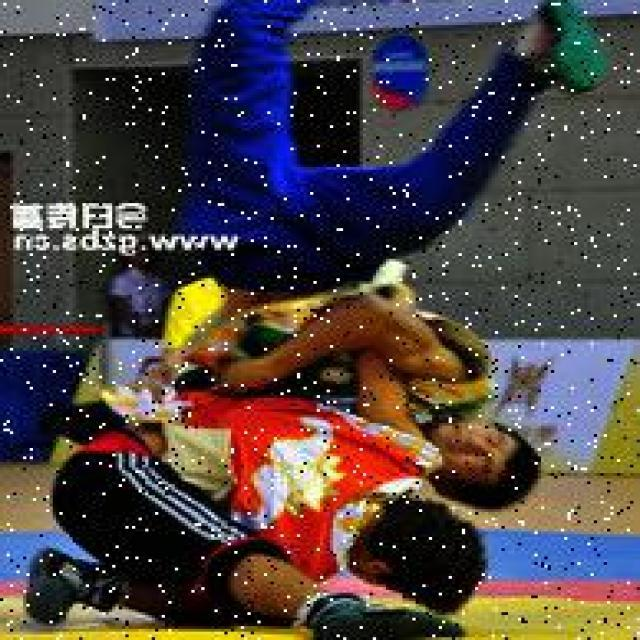fall: (39, 390, 482, 623)
